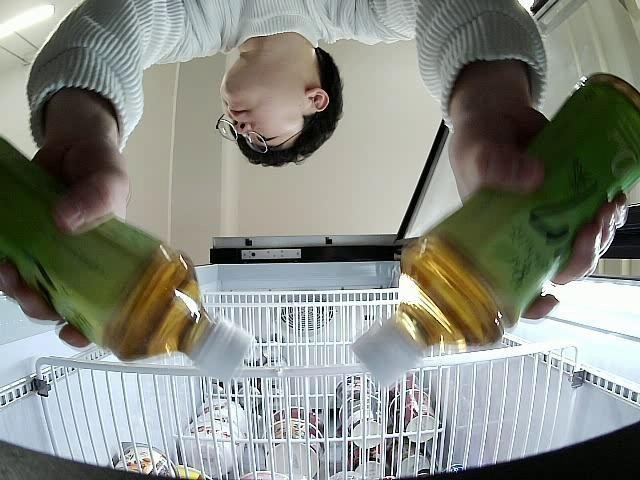19_17cha: (349, 72, 640, 389), (0, 131, 254, 388)
